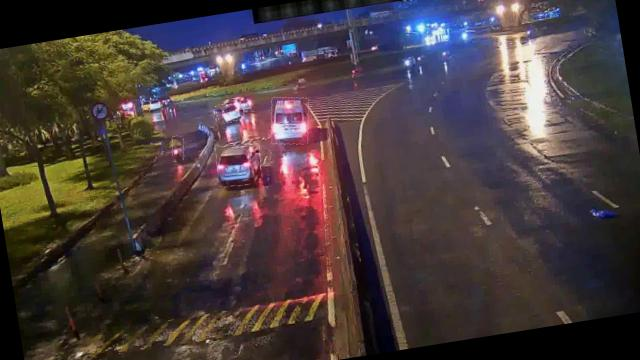Bike: (168, 134, 186, 162)
Bus: (266, 92, 314, 148)
Car: (214, 141, 264, 188), (215, 99, 245, 124)
